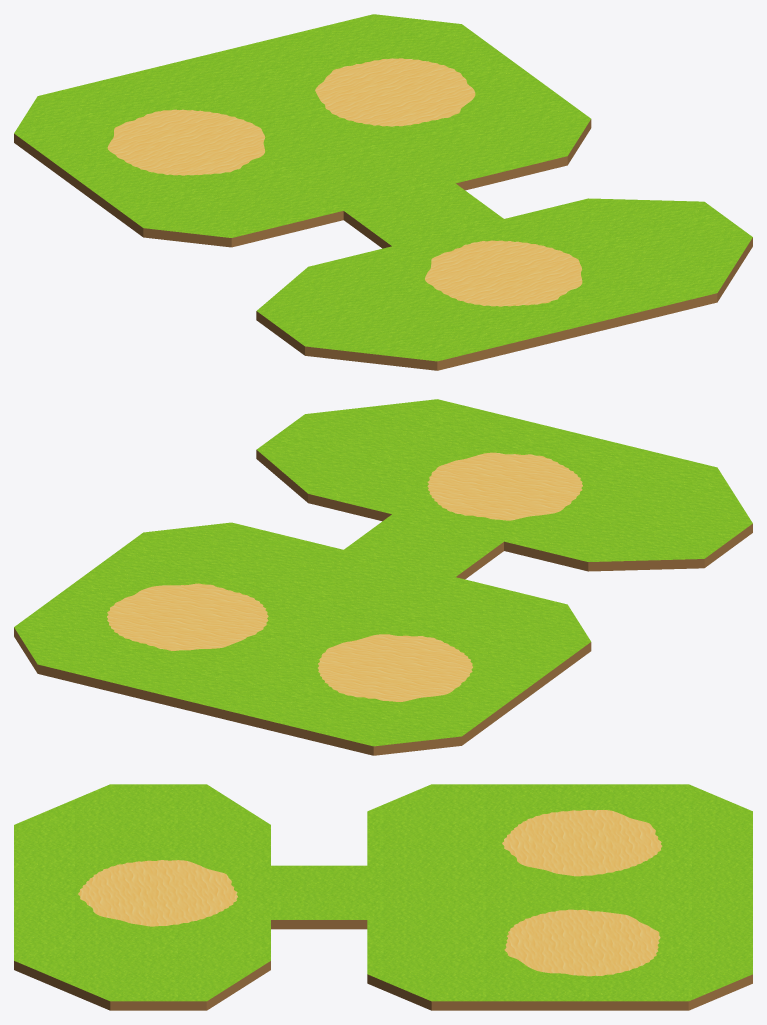
Rendered from surface-03-xd-jts9S.glb.
3 renders of one model, top to bottom at view 1: azimuth 30°, elevation 25°; view 2: azimuth 150°, elevation 25°; view 3: azimuth 270°, elevation 25°, orthographic.
Parts seen in each view (by area): view 1: FLC_Surface_03, FLC_Regions_03; view 2: FLC_Surface_03, FLC_Regions_03; view 3: FLC_Surface_03, FLC_Regions_03.
Boxes of the visible parts, x1,y1,x2,y2 form: FLC_Surface_03: (14,14,752,370); FLC_Regions_03: (107,58,582,306); FLC_Surface_03: (14,399,752,755); FLC_Regions_03: (107,452,582,701); FLC_Surface_03: (14,784,752,1010); FLC_Regions_03: (78,810,662,976).
Bounding box in the file's own units: 16 × 0.324 × 23.
3 materials, 2 textured.
